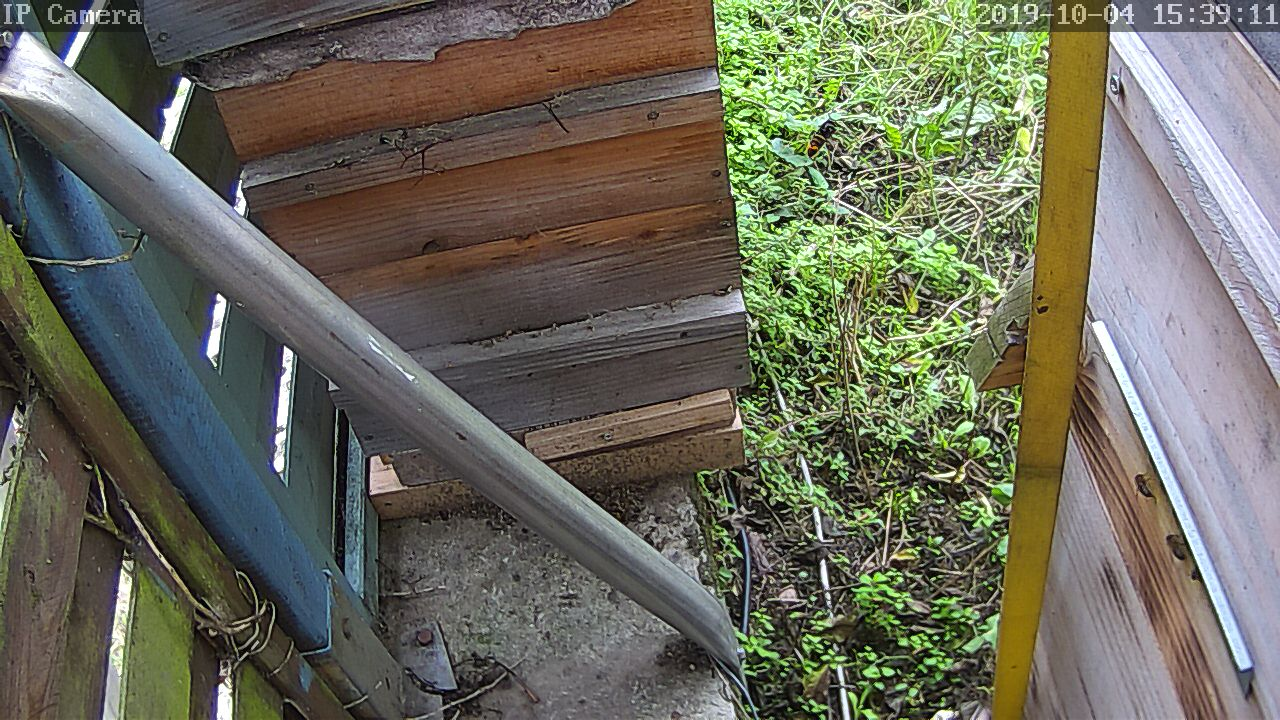bee: (1160, 528, 1191, 565), (1130, 471, 1160, 503)
hornet: (805, 116, 840, 161)
